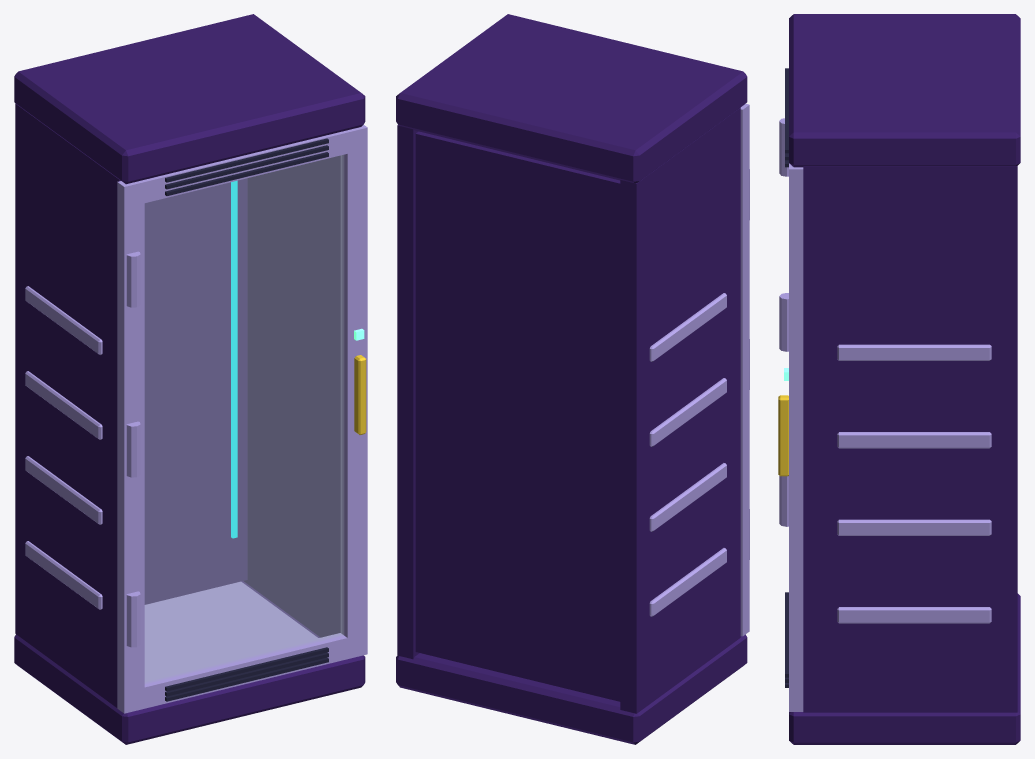
File: taquilla_vacia.glb
The picture shows the model from 3 angles, left to right: view 1: azimuth 30°, elevation 25°; view 2: azimuth 150°, elevation 25°; view 3: azimuth 270°, elevation 25°; orthographic projection. The views are drawn at different scales.
Parts seen in each view (by area): view 1: Casillero, Cristal, Puerta, Suelo, Rejilla, Nervio, Luz, Bisagra, Tirador; view 2: Casillero, Nervio, Puerta; view 3: Casillero, Nervio, Puerta, Bisagra, Tirador, Rejilla.
Boxes of the visible parts, bbox=[...] form: Casillero: bbox=[14, 14, 365, 744]; Cristal: bbox=[145, 155, 343, 683]; Puerta: bbox=[117, 124, 367, 713]; Suelo: bbox=[144, 581, 317, 680]; Rejilla: bbox=[165, 138, 328, 701]; Nervio: bbox=[25, 286, 102, 609]; Luz: bbox=[231, 181, 237, 538]; Bisagra: bbox=[126, 251, 140, 647]; Tirador: bbox=[354, 355, 366, 434]; Casillero: bbox=[396, 14, 747, 744]; Nervio: bbox=[649, 293, 726, 616]; Puerta: bbox=[740, 103, 749, 636]; Casillero: bbox=[789, 14, 1020, 744]; Nervio: bbox=[837, 344, 991, 623]; Puerta: bbox=[789, 163, 803, 711]; Bisagra: bbox=[779, 118, 788, 526]; Tirador: bbox=[778, 395, 788, 476]; Rejilla: bbox=[785, 68, 788, 687].
Size of what is drawn, in the model's own units: 0.8512 by 1.96 by 0.7028.
